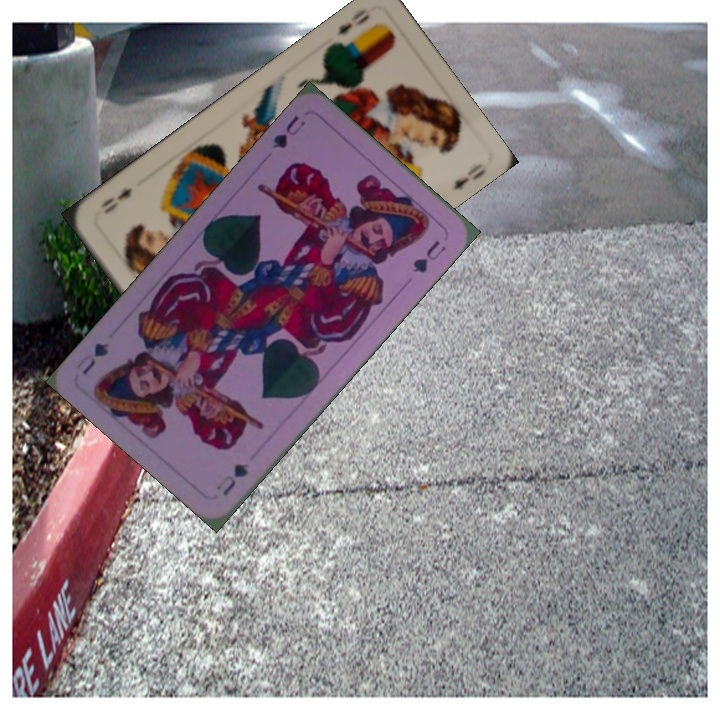EO: (332, 4, 373, 39)
GU: (268, 111, 308, 152), (212, 459, 252, 498)
